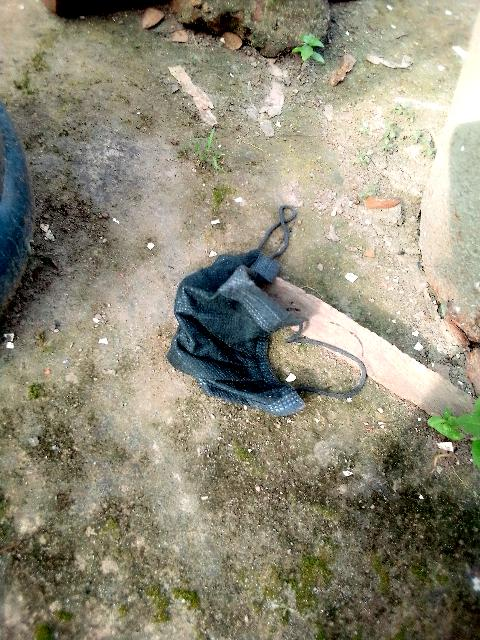mask: (170, 227, 325, 431)
